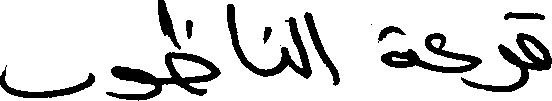X: (167, 6, 220, 100), (112, 0, 158, 100), (0, 60, 91, 100), (424, 28, 478, 93), (310, 8, 338, 90), (498, 7, 523, 96), (525, 8, 551, 88), (383, 21, 416, 72), (291, 7, 308, 83), (228, 0, 243, 69), (280, 13, 289, 77)
